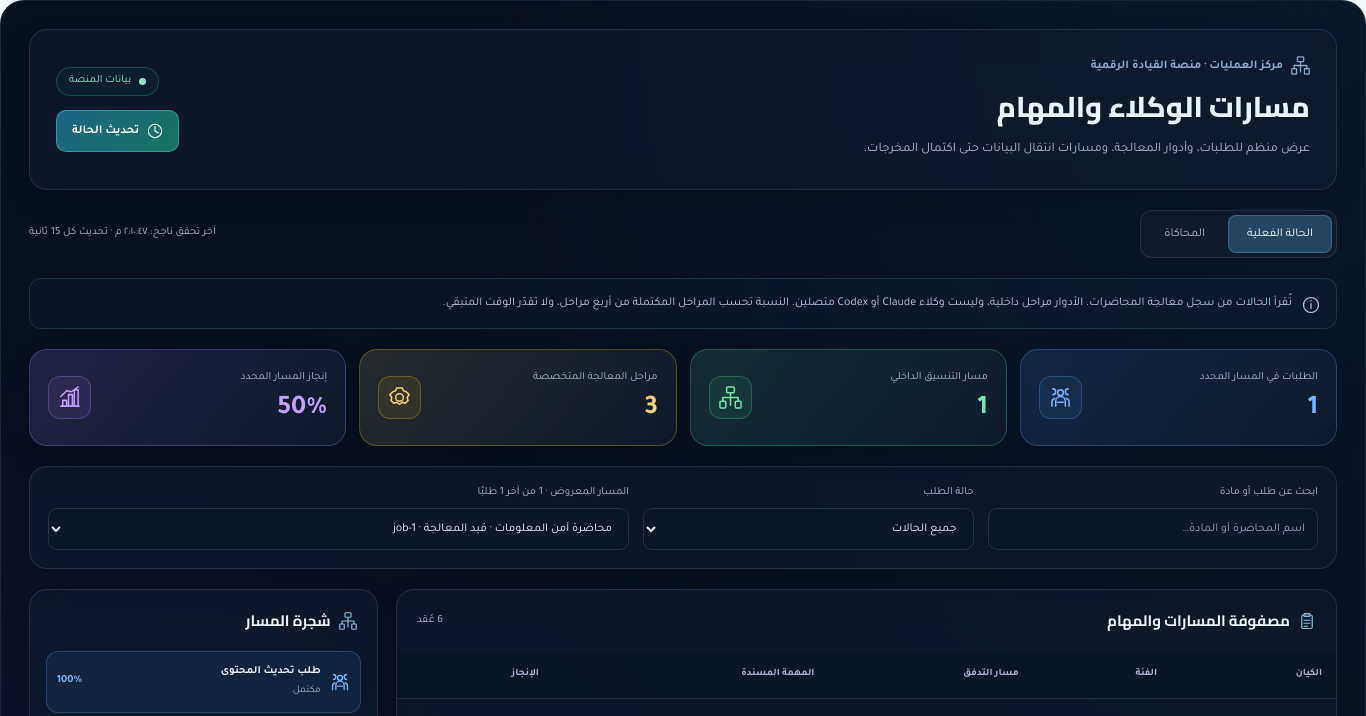
it: WorkflowDashboard › clears stale administrative data when the session loses authorization
Click the button "تحديث الحالة" at coordinates (118, 131), box [56, 110, 179, 152]
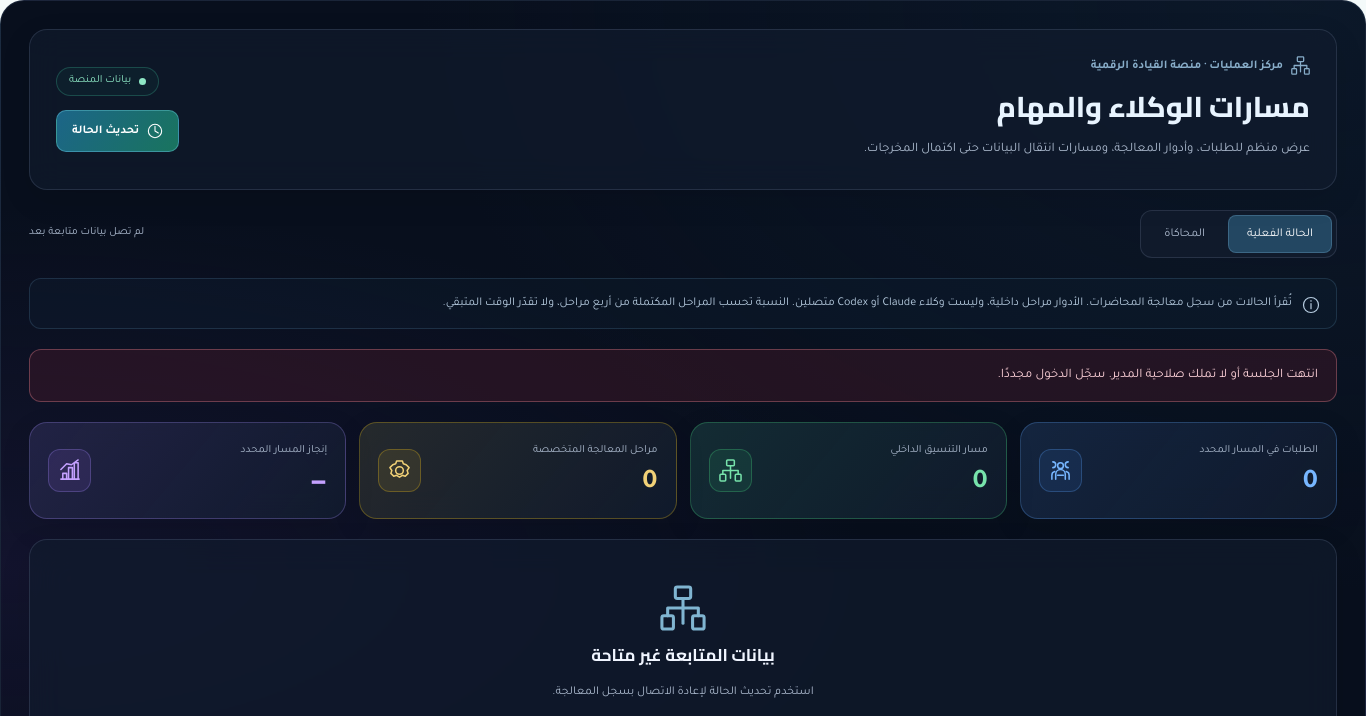
Check: the message "انتهت الجلسة أو لا تملك صلاحية المدير. سجّل الدخول مجددًا." is shown, box [29, 348, 1337, 402]
